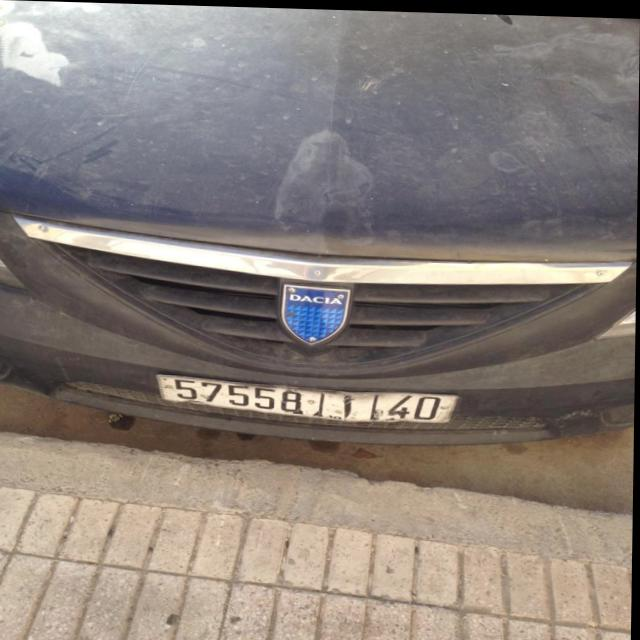License-Plate: (159, 374, 459, 421)
